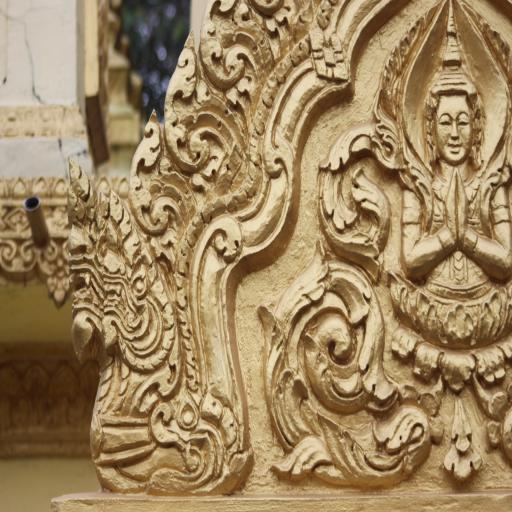la: (250, 264, 428, 494), (321, 102, 391, 264), (159, 34, 234, 171), (128, 104, 185, 230), (205, 0, 272, 92)
ran: (71, 174, 185, 444)
than: (396, 26, 512, 384)
